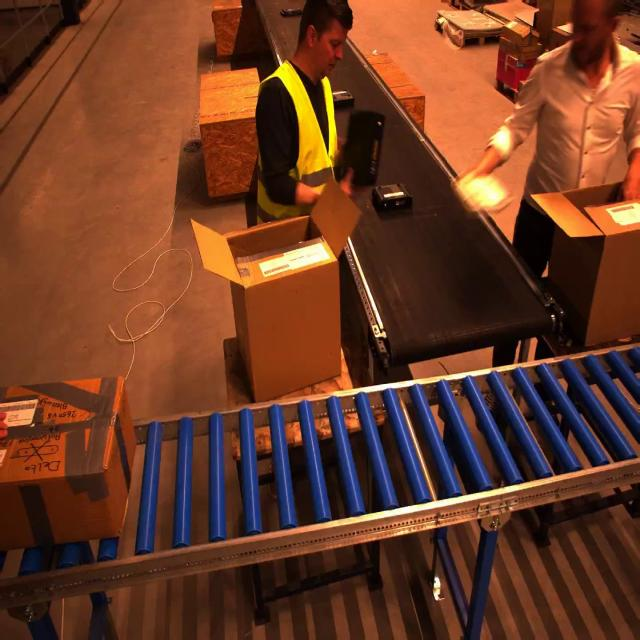box: (185, 207, 379, 406), (0, 362, 149, 570), (521, 181, 640, 335)
